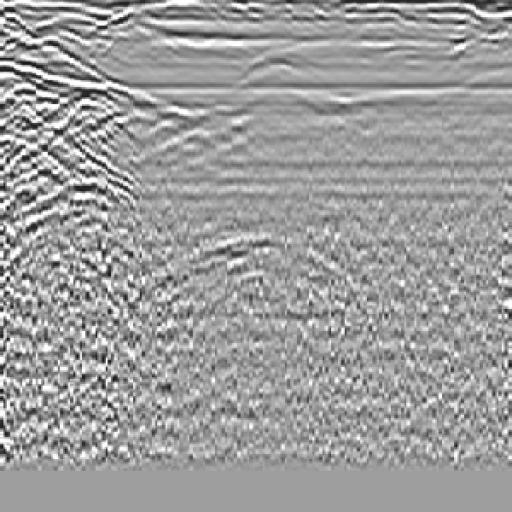non-metallic: (1, 35, 114, 264), (155, 218, 386, 322)
